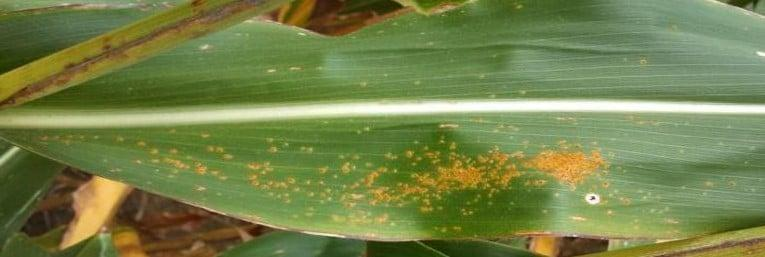Corn rust leaf: (2, 2, 514, 256)
